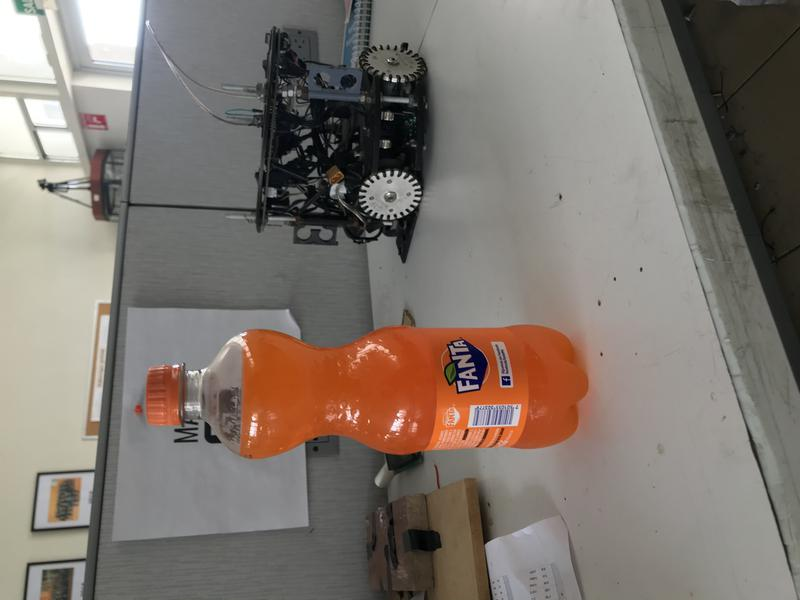fanta: (147, 324, 591, 459)
